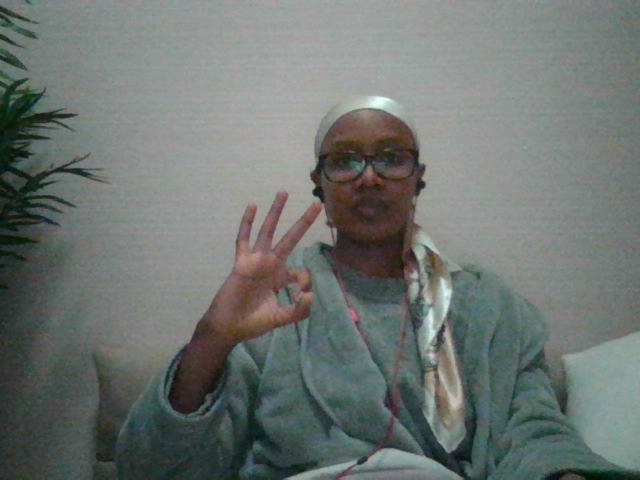ok: (197, 185, 330, 357)
